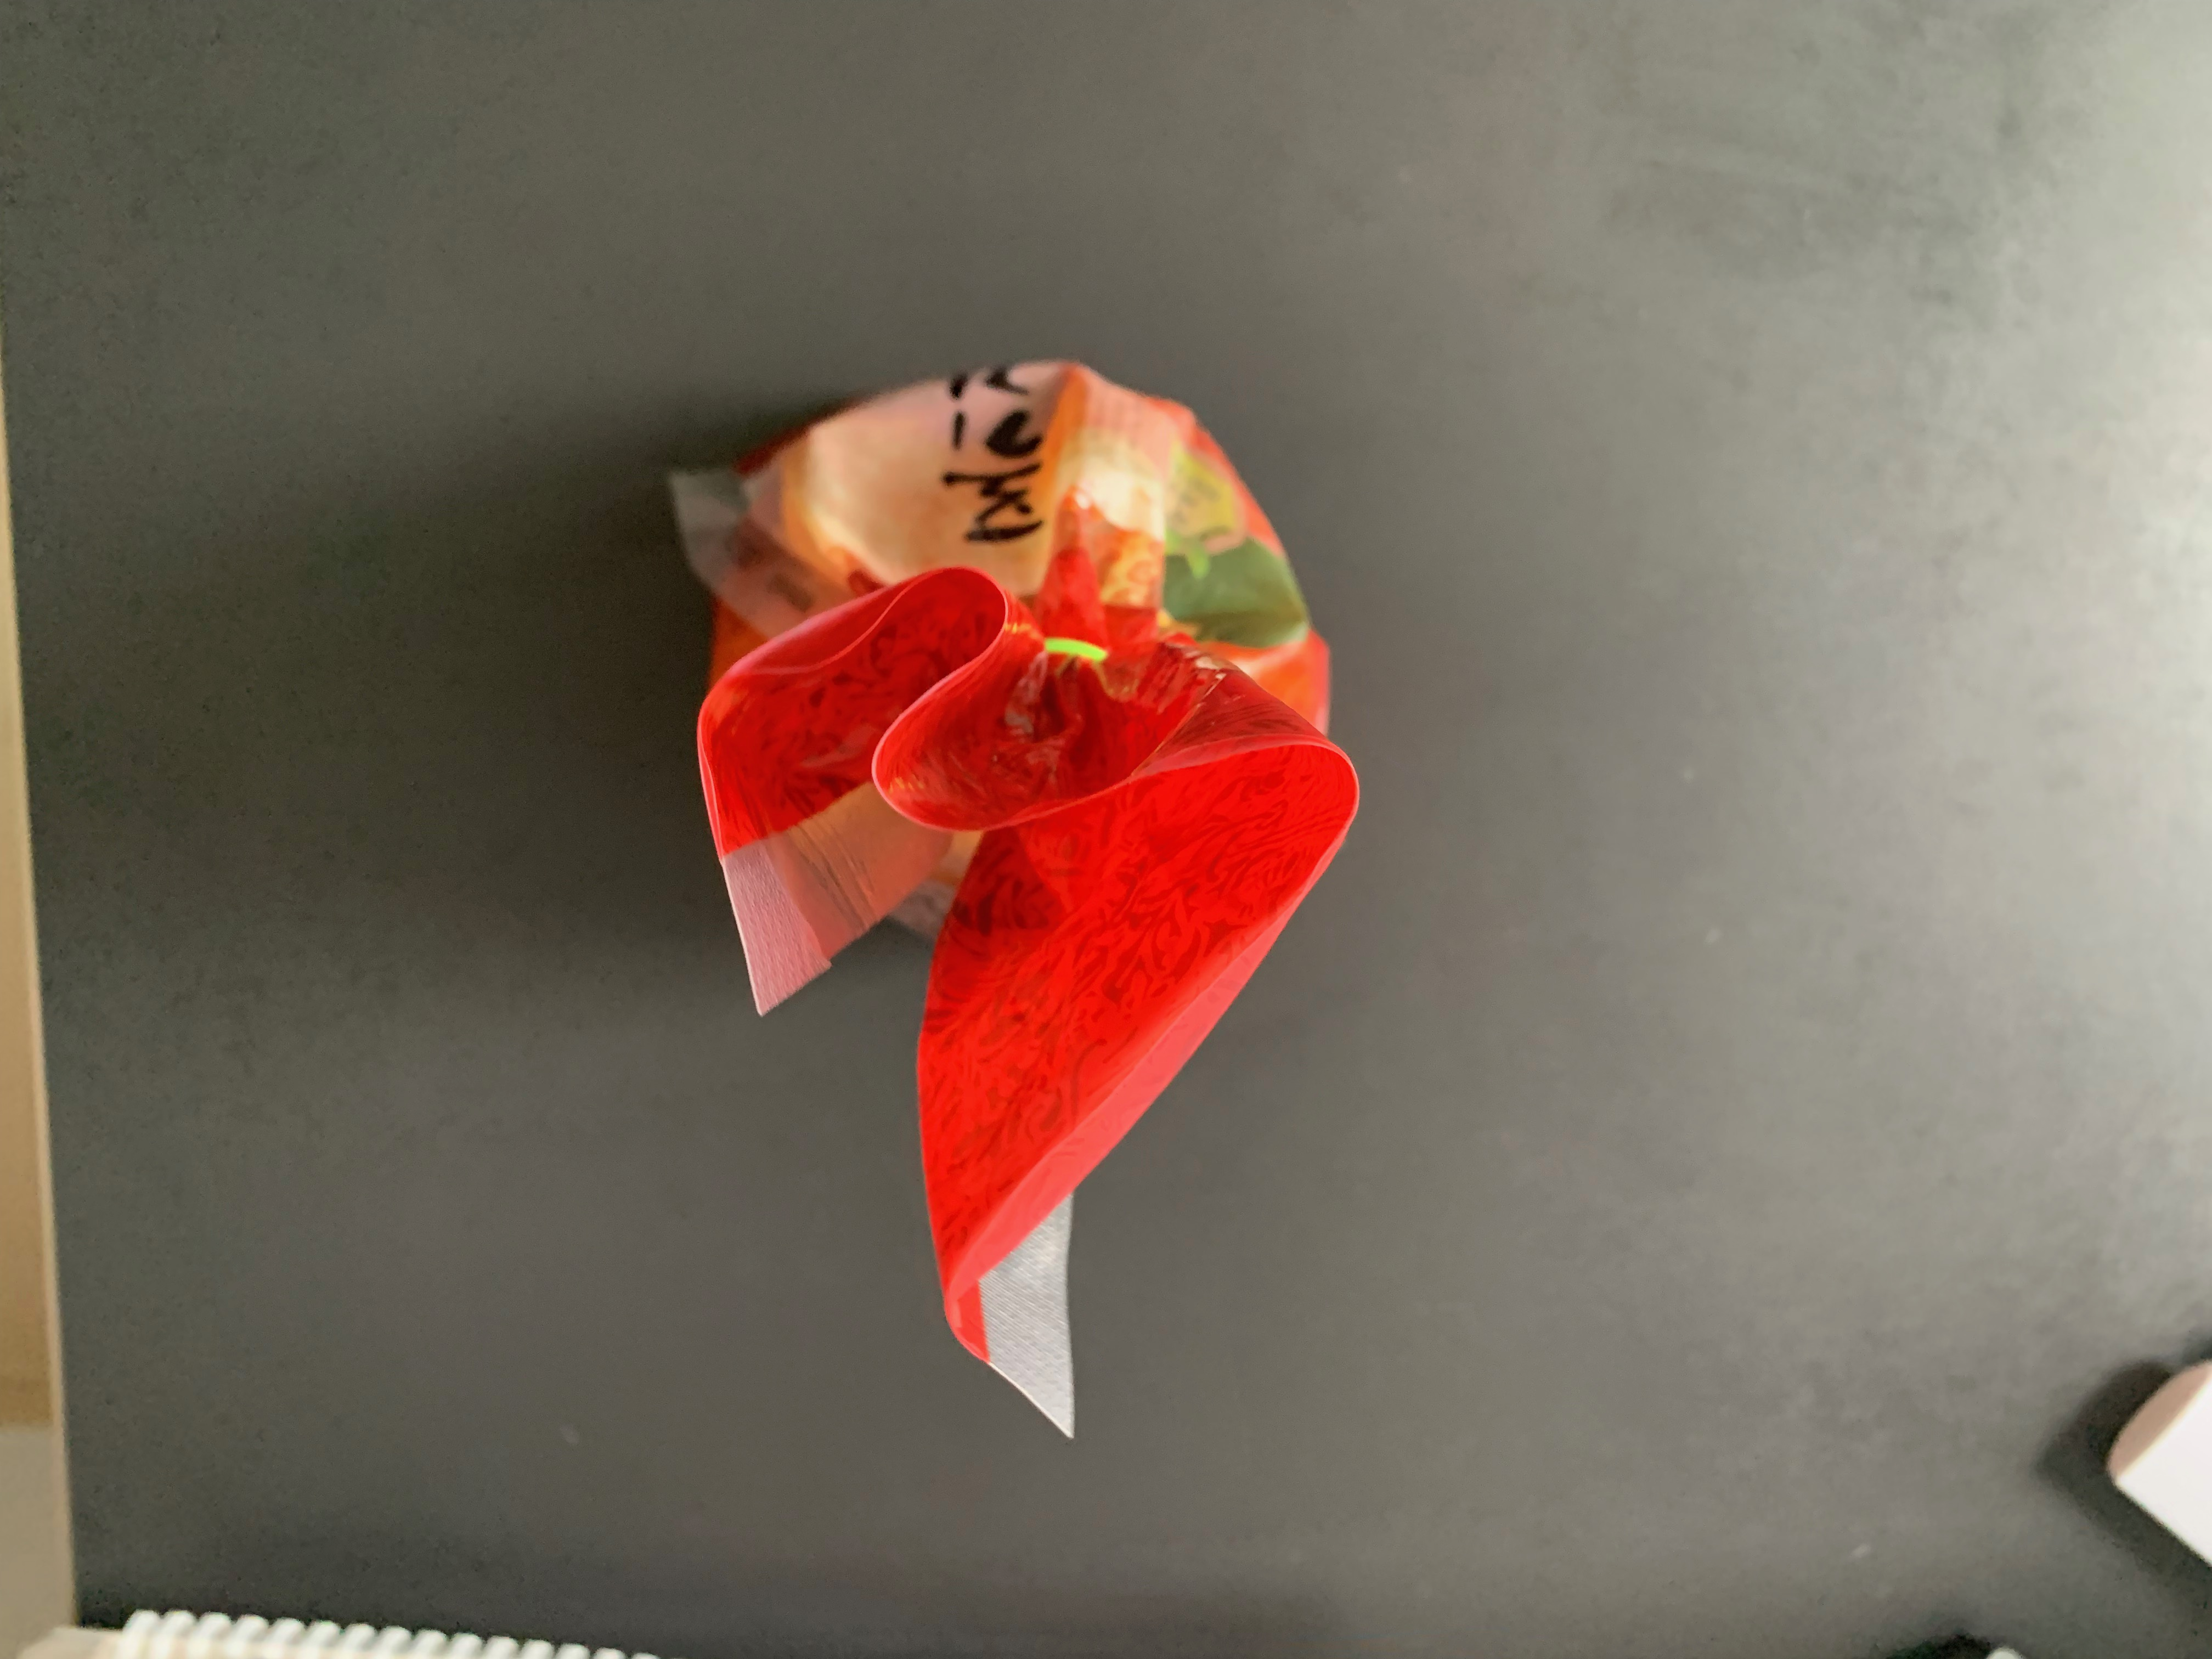kimchi: (691, 354, 1360, 1295)
